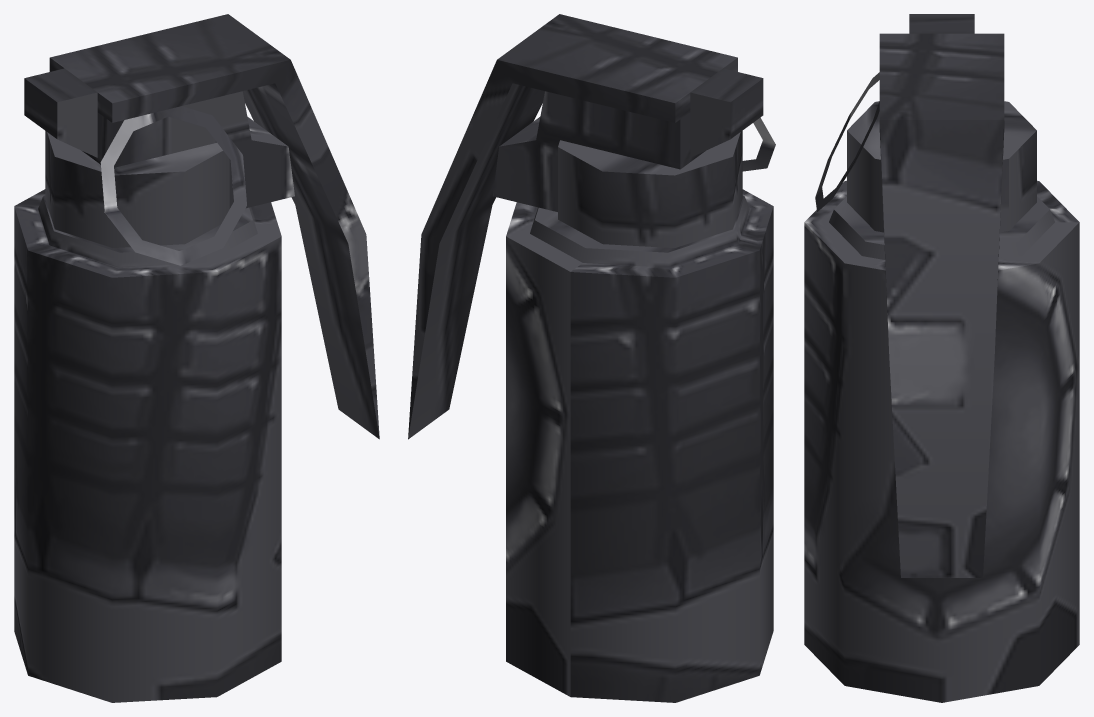
The model's file is shoulei_zbd.fbx.
3 renders of one model, left to right at view 1: azimuth 30°, elevation 25°; view 2: azimuth 150°, elevation 25°; view 3: azimuth 270°, elevation 25°, orthographic.
Visible parts, largest first — view 1: polySurface8; view 2: polySurface8; view 3: polySurface8.
Part boxes in pixels (box(x1,y1,x2,y2)): polySurface8: box(14, 14, 379, 702); polySurface8: box(408, 14, 775, 702); polySurface8: box(804, 14, 1079, 702).
Bounding box in the file's own units: 14.71 × 24.72 × 10.66.
